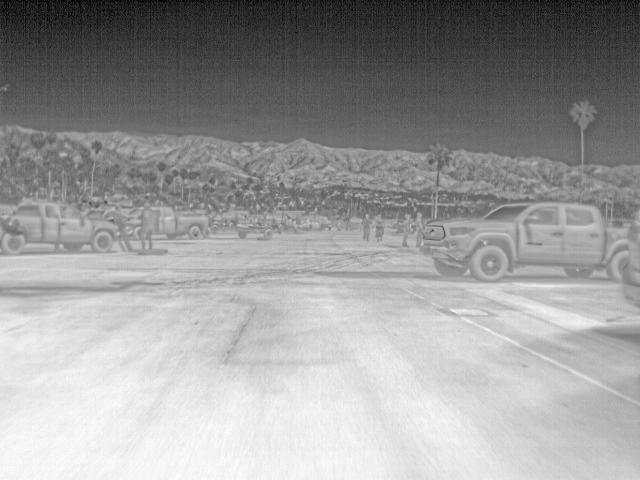car: (418, 199, 630, 279), (1, 200, 119, 255), (150, 206, 210, 240)
person: (137, 203, 158, 252), (398, 211, 414, 245), (371, 212, 385, 242), (361, 213, 373, 243)
